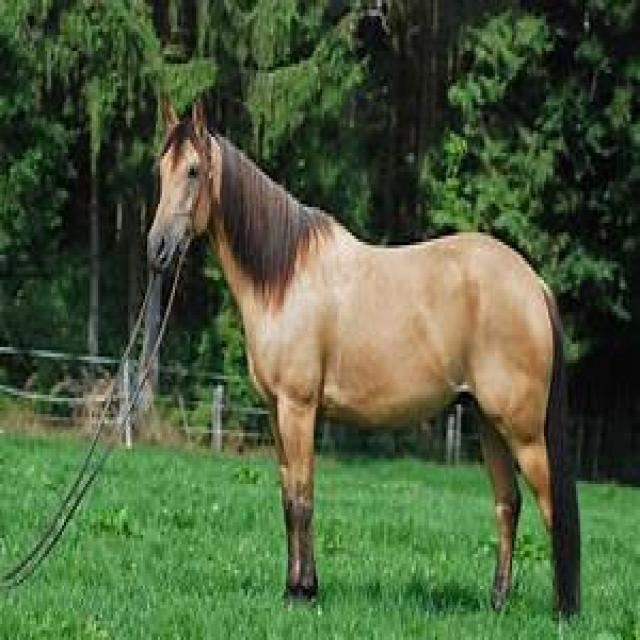horse: (145, 92, 580, 618)
